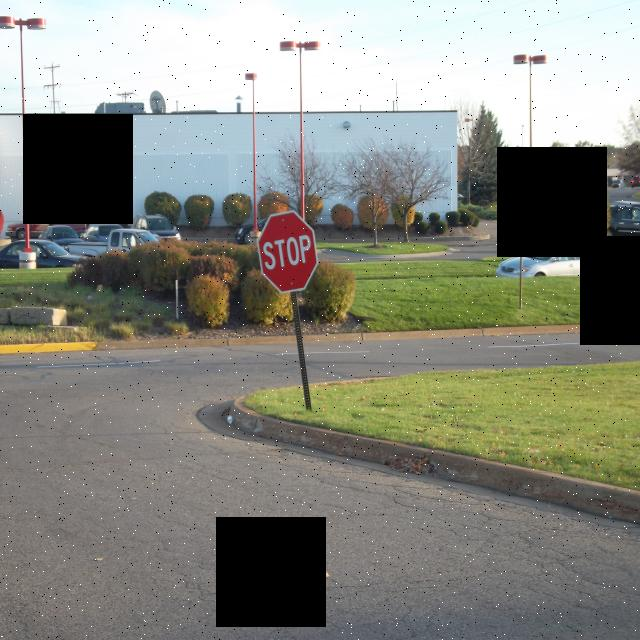regulatory: (512, 205, 530, 247)
stop: (252, 205, 321, 292)
